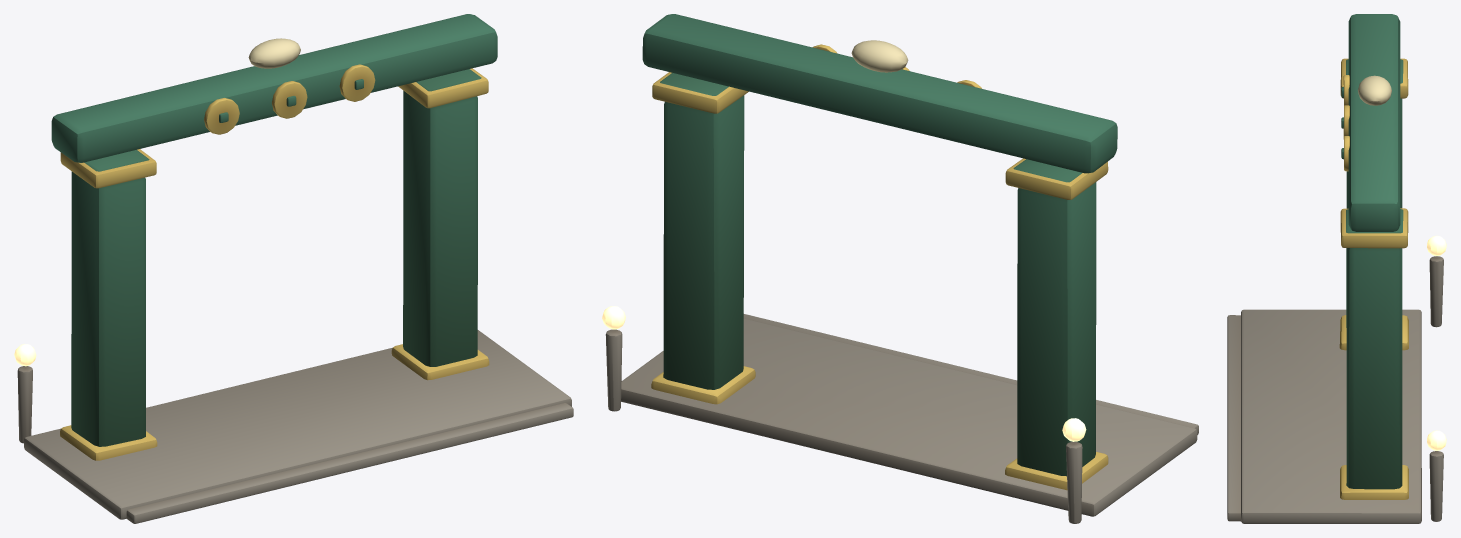
3 views of the same model, side by side, from view 1: azimuth 30°, elevation 25°; view 2: azimuth 150°, elevation 25°; view 3: azimuth 270°, elevation 25° (orthographic). The views are drawn at different scales.
Visible parts, largest first — view 1: gate_838513f4; view 2: gate_838513f4; view 3: gate_838513f4.
Boxes of the visible parts, x1=… form: gate_838513f4: x1=14, y1=14, x2=573, y2=523; gate_838513f4: x1=602, y1=14, x2=1198, y2=523; gate_838513f4: x1=1227, y1=14, x2=1446, y2=523.
Bounding box in the file's own units: 5.61 × 4.41 × 2.55.
